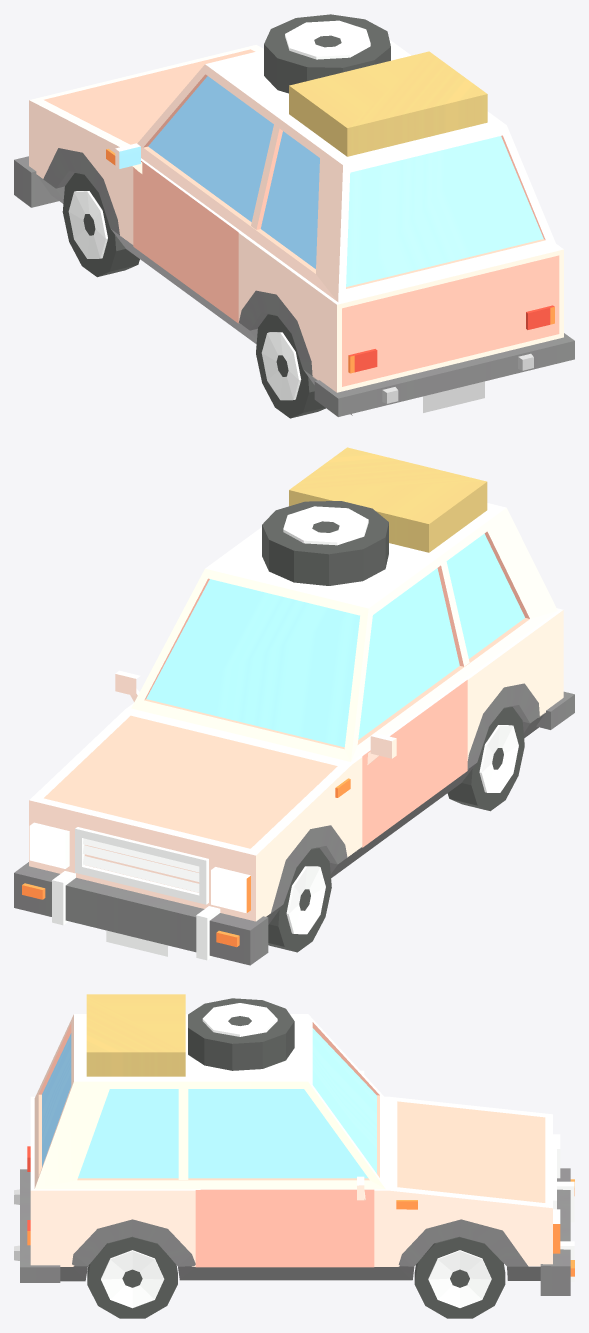
The model's file is transport_old.007.glb.
3 views of the same model, one above another, from view 1: azimuth 30°, elevation 25°; view 2: azimuth 150°, elevation 25°; view 3: azimuth 270°, elevation 25° (orthographic). The views are drawn at different scales.
Visible parts, largest first — view 1: transport_old.007(Clone); view 2: transport_old.007(Clone); view 3: transport_old.007(Clone).
Part boxes in pixels (bbox=[...]): transport_old.007(Clone): bbox=[14, 14, 574, 418]; transport_old.007(Clone): bbox=[14, 447, 574, 965]; transport_old.007(Clone): bbox=[14, 994, 574, 1318].
Bounding box in the file's own units: 1.48 × 1.53 × 3.05.
1 material, 1 textured.
